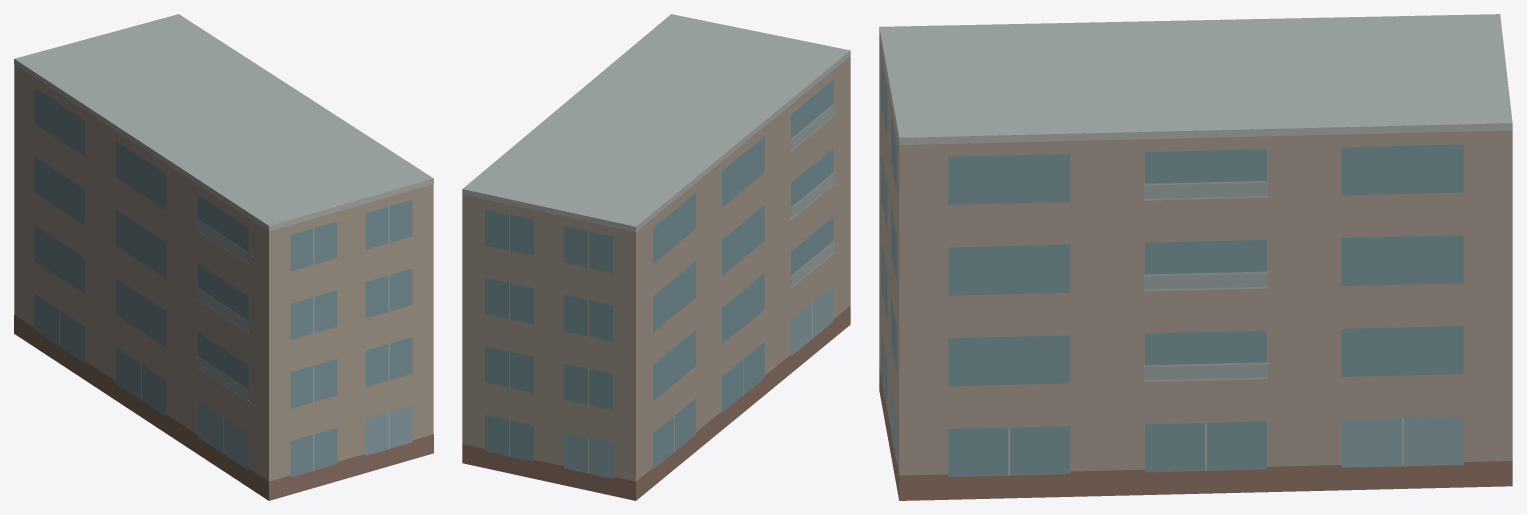
The model's file is survey-upis-32636947.glb.
3 views of the same model, side by side, from view 1: azimuth 30°, elevation 25°; view 2: azimuth 150°, elevation 25°; view 3: azimuth 270°, elevation 25° (orthographic). The views are drawn at different scales.
Visible parts, largest first — view 1: survey-upis-32636947.tmp; view 2: survey-upis-32636947.tmp; view 3: survey-upis-32636947.tmp.
Boxes of the visible parts, x1=… form: survey-upis-32636947.tmp: x1=14, y1=14, x2=433, y2=500; survey-upis-32636947.tmp: x1=462, y1=14, x2=850, y2=500; survey-upis-32636947.tmp: x1=879, y1=14, x2=1512, y2=500.
Bounding box in the file's own units: 8.93 × 12.2 × 19.3.
